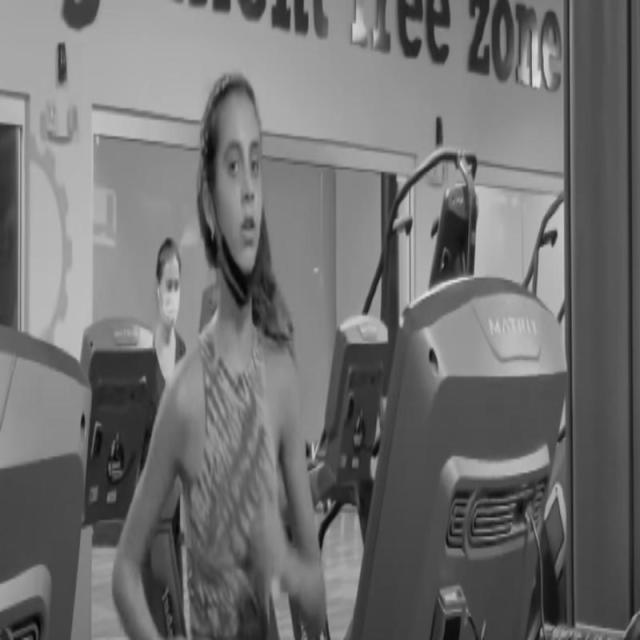hairnet: (217, 128, 263, 306)
